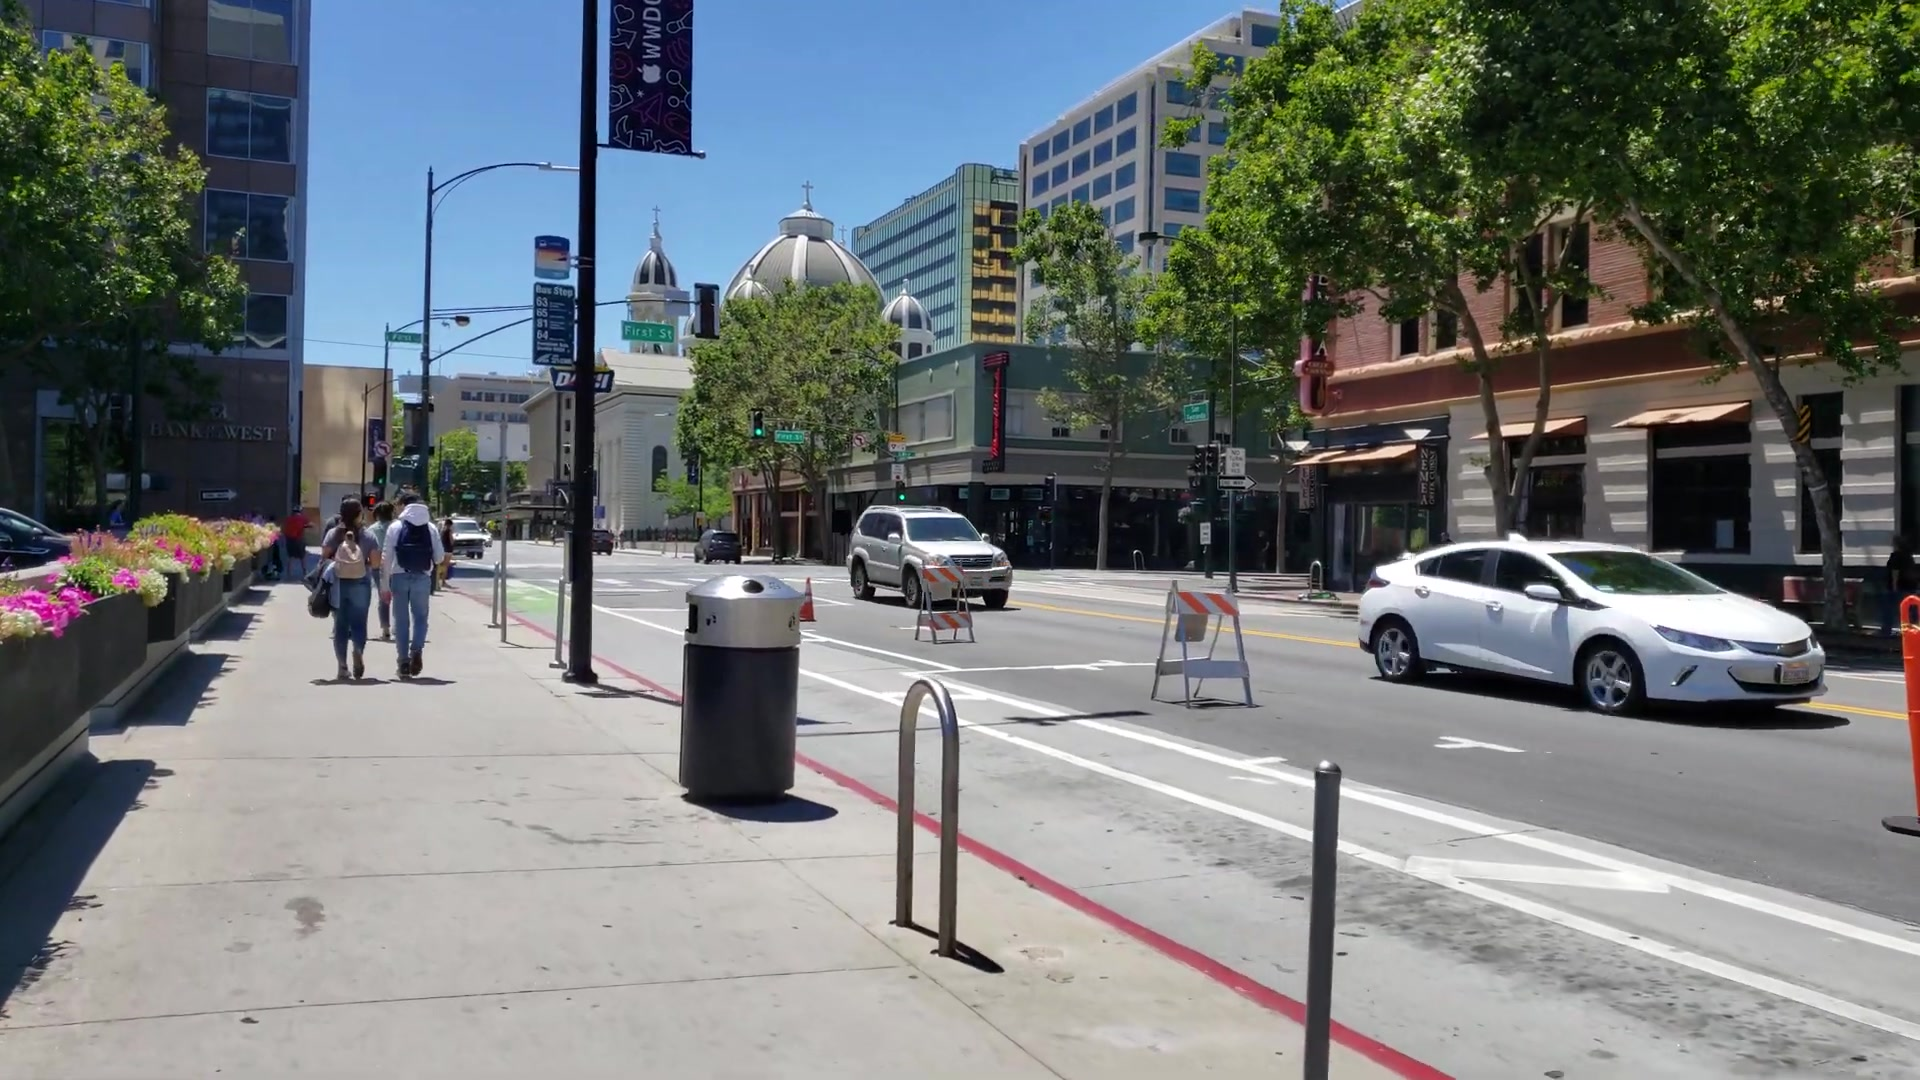vehicle: (1356, 531, 1832, 717), (849, 506, 1013, 611)
